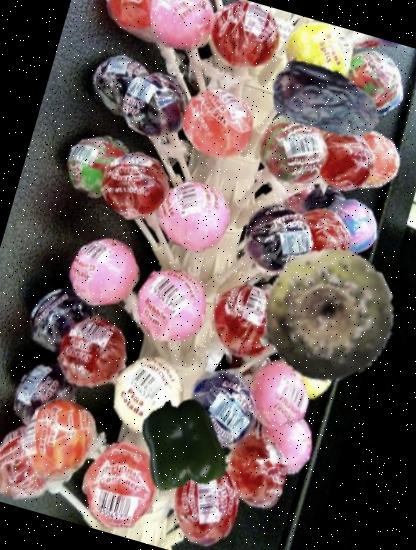Cactus: (239, 229, 411, 402)
Dates: (253, 34, 394, 174)
Pepper: (124, 388, 237, 501)
